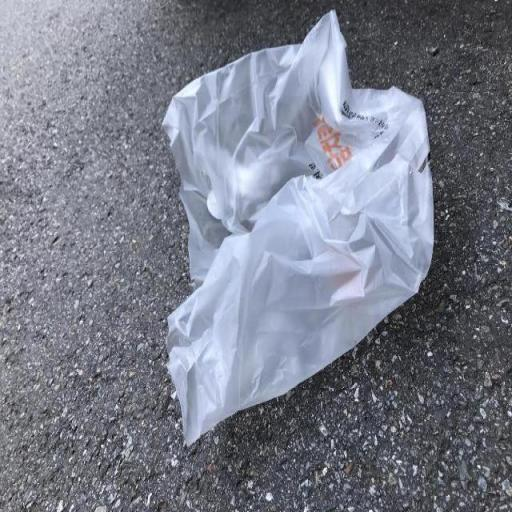plastic-bag: (158, 6, 440, 449)
